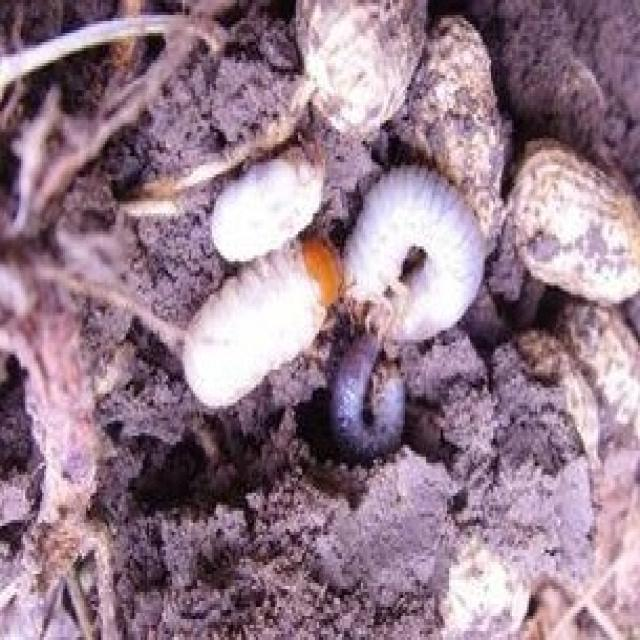grub: (339, 148, 486, 359), (171, 263, 343, 419), (198, 149, 324, 263), (328, 344, 414, 482)
